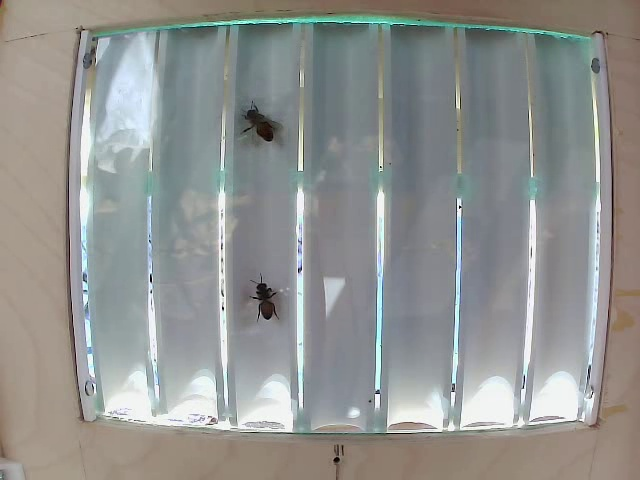bee: (244, 269, 288, 324), (240, 99, 289, 139)
